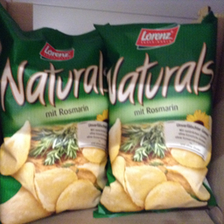chips: (95, 23, 216, 218), (2, 32, 107, 223)
